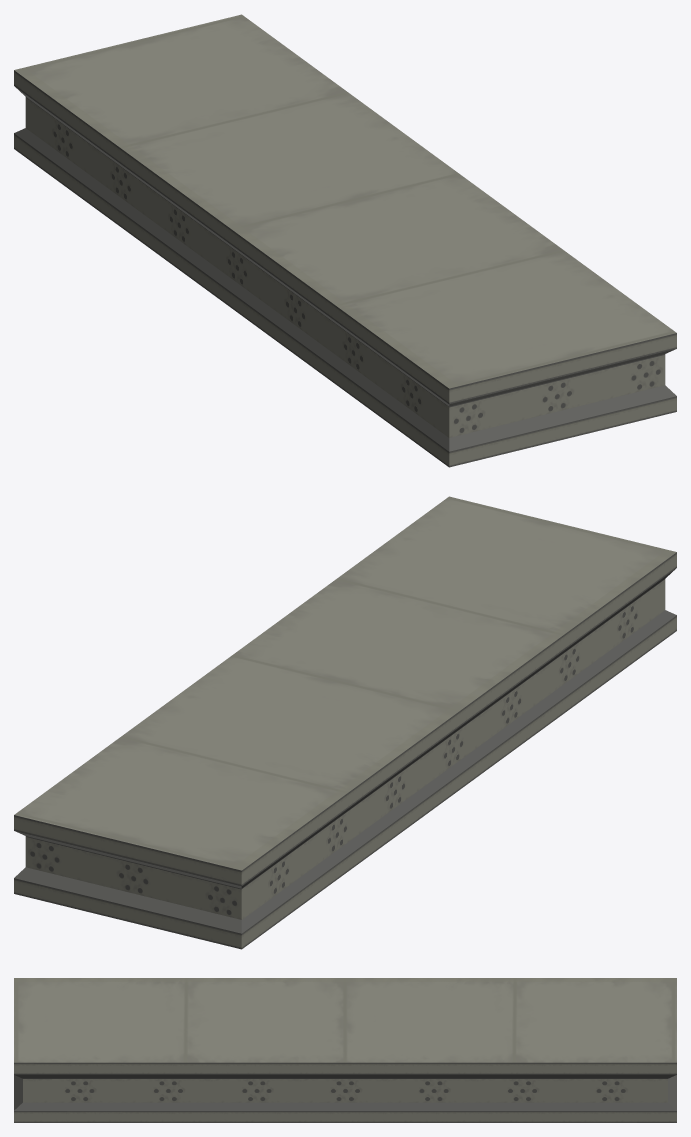
File: Coast Metal Platform.fbx
3 renders of one model, top to bottom at view 1: azimuth 30°, elevation 25°; view 2: azimuth 150°, elevation 25°; view 3: azimuth 270°, elevation 25°, orthographic. The views are drawn at different scales.
Visible parts, largest first — view 1: Metal Platform; view 2: Metal Platform; view 3: Metal Platform.
Part boxes in pixels (x1,y1,x2,y2): Metal Platform: (14, 14, 676, 467); Metal Platform: (14, 496, 676, 949); Metal Platform: (14, 978, 676, 1122).
Size of the model in its own units: 605 by 200 by 2000.
